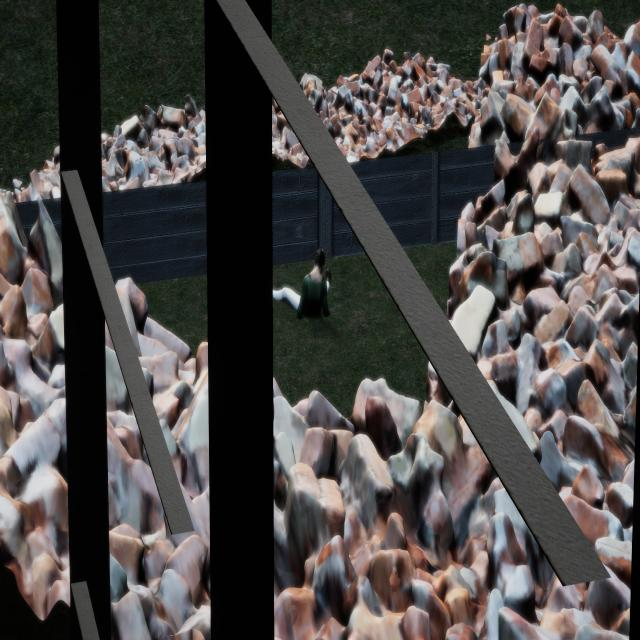Human: (268, 244, 334, 338)
